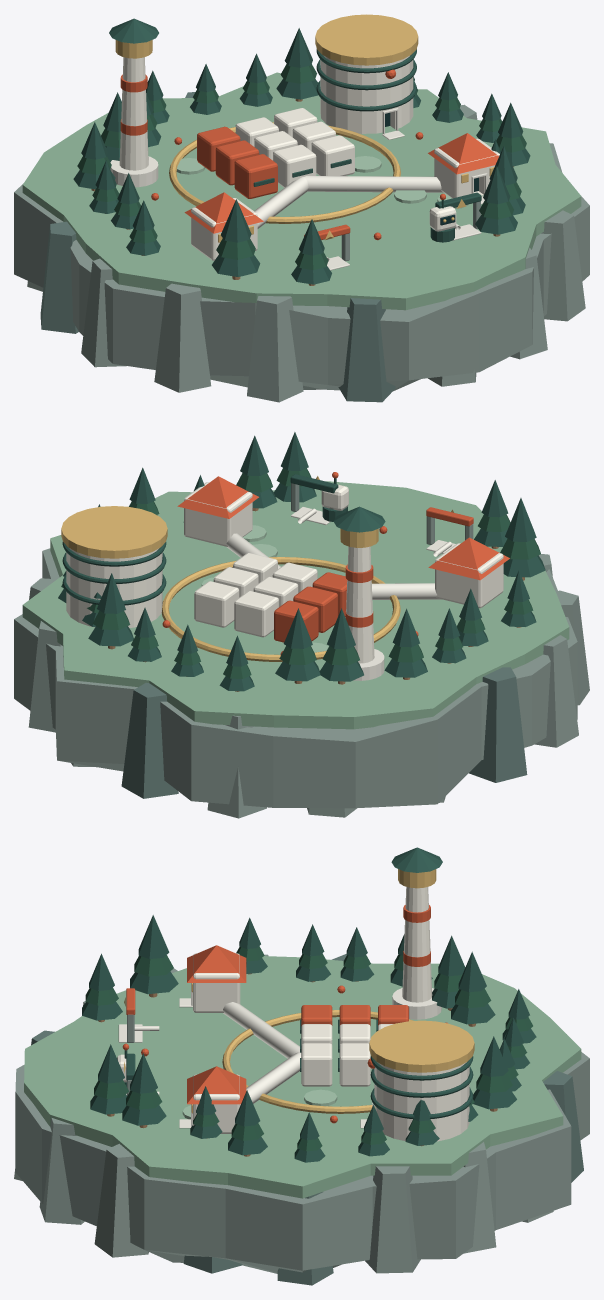
The model's file is chapter-15.glb.
3 renders of one model, top to bottom at view 1: azimuth 30°, elevation 25°; view 2: azimuth 150°, elevation 25°; view 3: azimuth 270°, elevation 25°, orthographic. The views are drawn at different scales.
Parts seen in each view (by area): view 1: terrain, rock_base, landmark_versions_0, cliff_facet_10, cliff_facet_11, vault_cap_0, cliff_facet_12, cliff_facet_15, cliff_facet_08, beacon, sync_cycle, cliff_facet_09 (+37 smaller); view 2: terrain, rock_base, vault_cap_0, cliff_facet_08, landmark_versions_0, cliff_facet_04, cliff_facet_09, sync_cycle, landmark_devices.001, beacon, landmark_devices, cliff_facet_02 (+41 smaller); view 3: terrain, rock_base, vault_cap_0, landmark_versions_0, cliff_facet_01, cliff_facet_15, beacon, cliff_facet_14, cliff_facet_02, sync_cycle, landmark_devices, roof_devices (+34 smaller).
Boxes of the visible parts, left/top/right/bottom form: terrain: left=22, top=72, right=581, bottom=310; rock_base: left=14, top=143, right=589, bottom=391; landmark_versions_0: left=320, top=55, right=413, bottom=133; cliff_facet_10: left=154, top=283, right=211, bottom=392; cliff_facet_11: left=247, top=296, right=303, bottom=402; vault_cap_0: left=315, top=14, right=418, bottom=65; cliff_facet_12: left=338, top=298, right=395, bottom=402; cliff_facet_15: left=541, top=210, right=585, bottom=321; cliff_facet_08: left=40, top=221, right=78, bottom=333; beacon: left=119, top=57, right=148, bottom=170; sync_cycle: left=169, top=122, right=400, bottom=223; cliff_facet_09: left=81, top=258, right=126, bottom=367; terrain: left=22, top=481, right=569, bottom=729; rock_base: left=14, top=548, right=577, bottom=808; vault_cap_0: left=61, top=506, right=167, bottom=558; cliff_facet_08: left=469, top=667, right=527, bottom=782; landmark_versions_0: left=66, top=548, right=162, bottom=627; cliff_facet_04: left=121, top=682, right=178, bottom=798; cliff_facet_09: left=534, top=635, right=578, bottom=747; sync_cycle: left=161, top=557, right=400, bottom=661; landmark_devices.001: left=184, top=482, right=252, bottom=546; beacon: left=346, top=546, right=374, bottom=663; landmark_devices: left=435, top=543, right=503, bottom=608; cliff_facet_02: left=28, top=621, right=61, bottom=732; terrain: left=24, top=956, right=581, bottom=1198; rock_base: left=15, top=1052, right=589, bottom=1273; vault_cap_0: left=369, top=1020, right=474, bottom=1072; landmark_versions_0: left=374, top=1062, right=469, bottom=1141; cliff_facet_01: left=365, top=1166, right=420, bottom=1273; cliff_facet_15: left=94, top=1143, right=148, bottom=1257; beacon: left=402, top=887, right=432, bottom=1002; cliff_facet_14: left=39, top=1117, right=84, bottom=1224; cliff_facet_02: left=463, top=1142, right=496, bottom=1253; sync_cycle: left=222, top=1010, right=413, bottom=1113; landmark_devices: left=193, top=953, right=240, bottom=1012; roof_devices: left=187, top=945, right=246, bottom=982.
Size of the model in its own units: 12.12 by 6.41 by 12.06.
